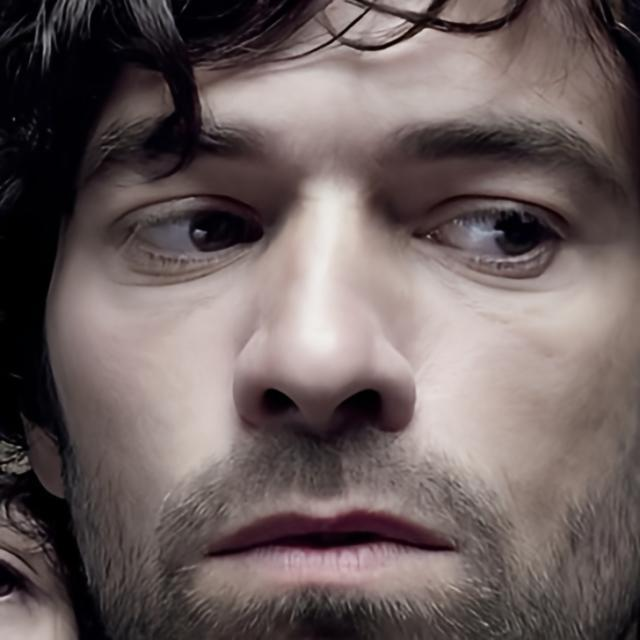disgust: (42, 0, 639, 637)
